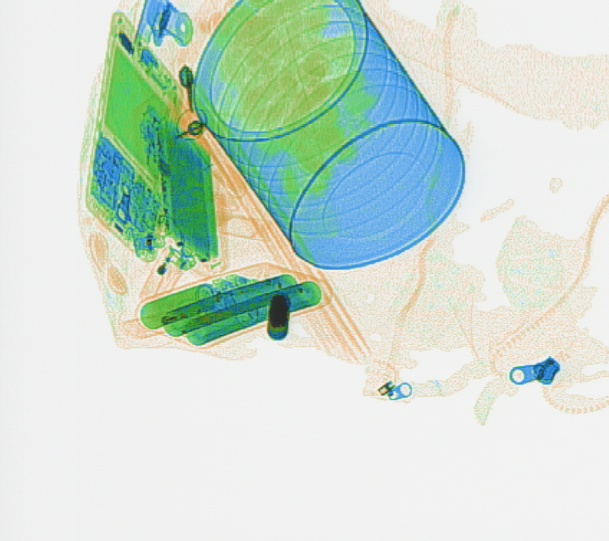lighter: (136, 241, 195, 314)
powerbank: (133, 258, 332, 349)
